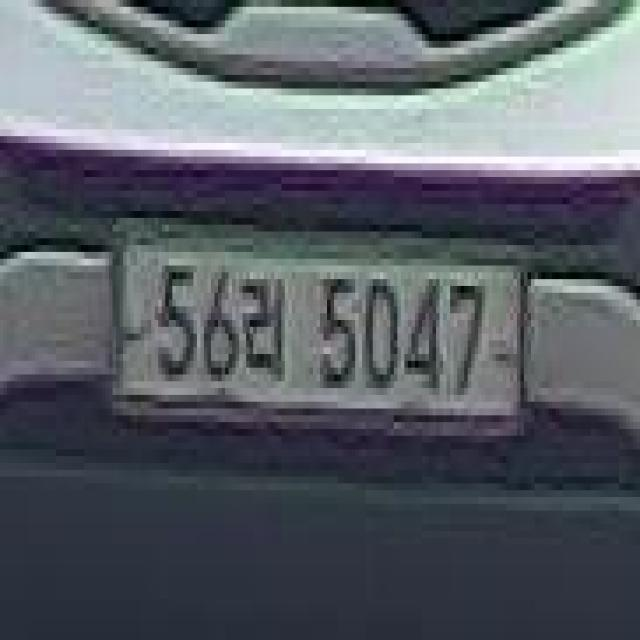illegal_plate: (109, 219, 530, 452)
